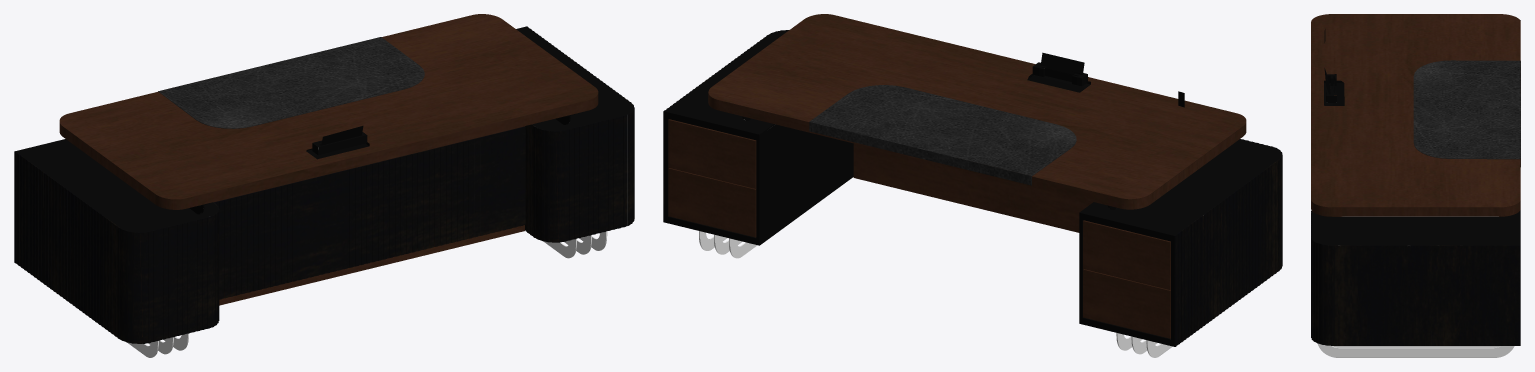
The model's file is swordmasa.glb.
3 views of the same model, side by side, from view 1: azimuth 30°, elevation 25°; view 2: azimuth 150°, elevation 25°; view 3: azimuth 270°, elevation 25° (orthographic). The views are drawn at different scales.
Visible parts, largest first — view 1: ASSET_Joined; view 2: ASSET_Joined; view 3: ASSET_Joined.
Part boxes in pixels (x1=…): ASSET_Joined: x1=14, y1=14, x2=634, y2=357; ASSET_Joined: x1=663, y1=14, x2=1282, y2=357; ASSET_Joined: x1=1311, y1=14, x2=1520, y2=357.
Bounding box in the file's own units: 2.75 × 0.9567 × 1.08.
1 material, 1 textured.
